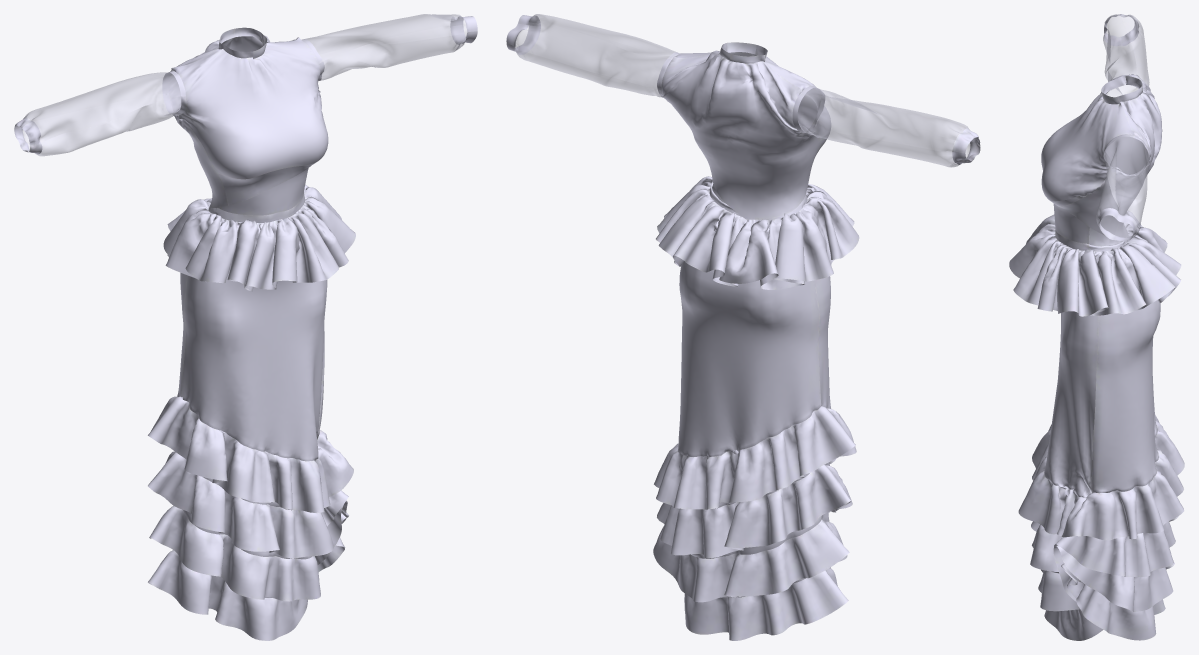
The model's file is G_lavender.glb.
3 views of the same model, side by side, from view 1: azimuth 30°, elevation 25°; view 2: azimuth 150°, elevation 25°; view 3: azimuth 270°, elevation 25° (orthographic). The views are drawn at different scales.
Visible parts, largest first — view 1: Garment; view 2: Garment; view 3: Garment.
Boxes of the visible parts, x1=… form: Garment: x1=14, y1=14, x2=477, y2=640; Garment: x1=506, y1=14, x2=980, y2=640; Garment: x1=1009, y1=14, x2=1184, y2=640.
Size of the model in its own units: 1.15 by 1.41 by 0.4119.
1 material, 1 textured.
